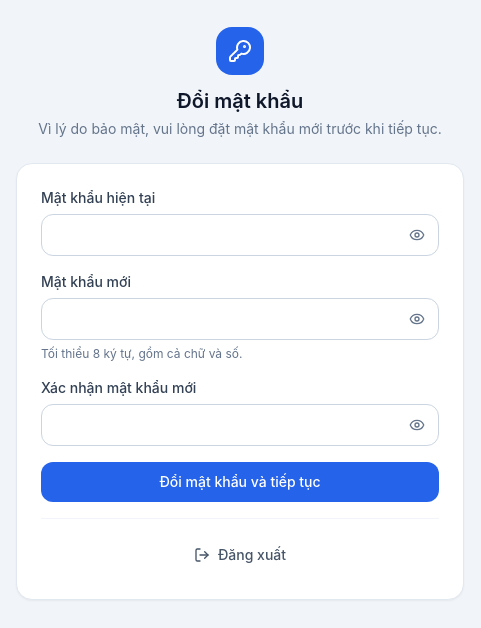
Scenario: change password — forced mode › rejects when the confirmation does not match
Expected: the heading "Đổi mật khẩu" is shown, [177,86,303,114]
Type "OldPass123" into the password field labelled "Mật khẩu hiện tại" at (240, 234), box [41,214,439,256]
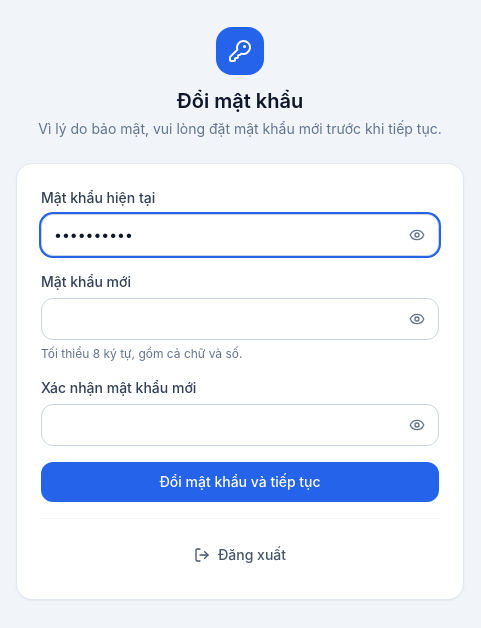
Type "NewPass123" into the password field labelled "Mật khẩu mới" at (240, 318), box [41,298,439,340]
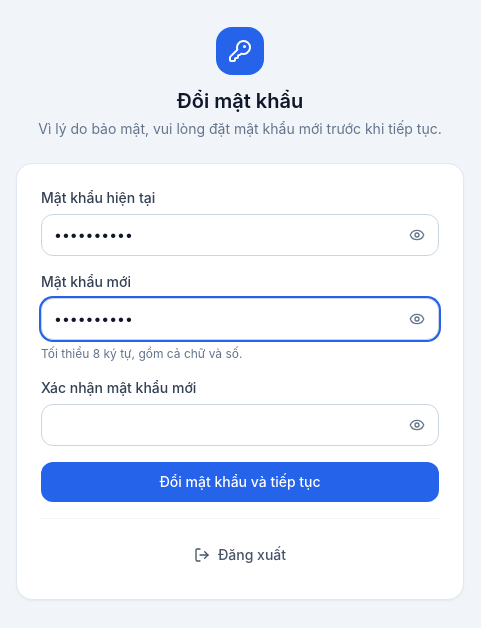
Type "Different123" into the password field labelled "Xác nhận mật khẩu mới" at (240, 424), box [41,404,439,446]
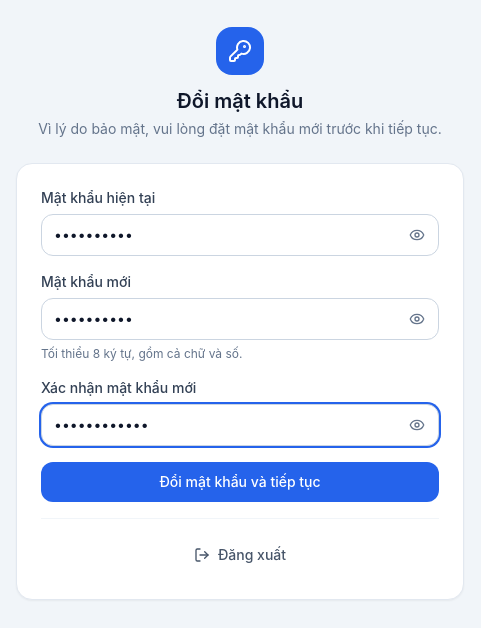
Click the button "Đổi mật khẩu và tiếp tục" at (240, 482), box [41,462,439,502]
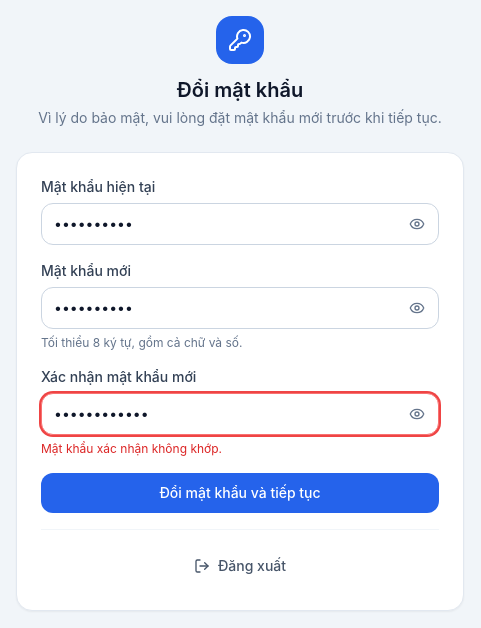
Now the text "Mật khẩu xác nhận không khớp." is shown, box [41,440,222,456]
